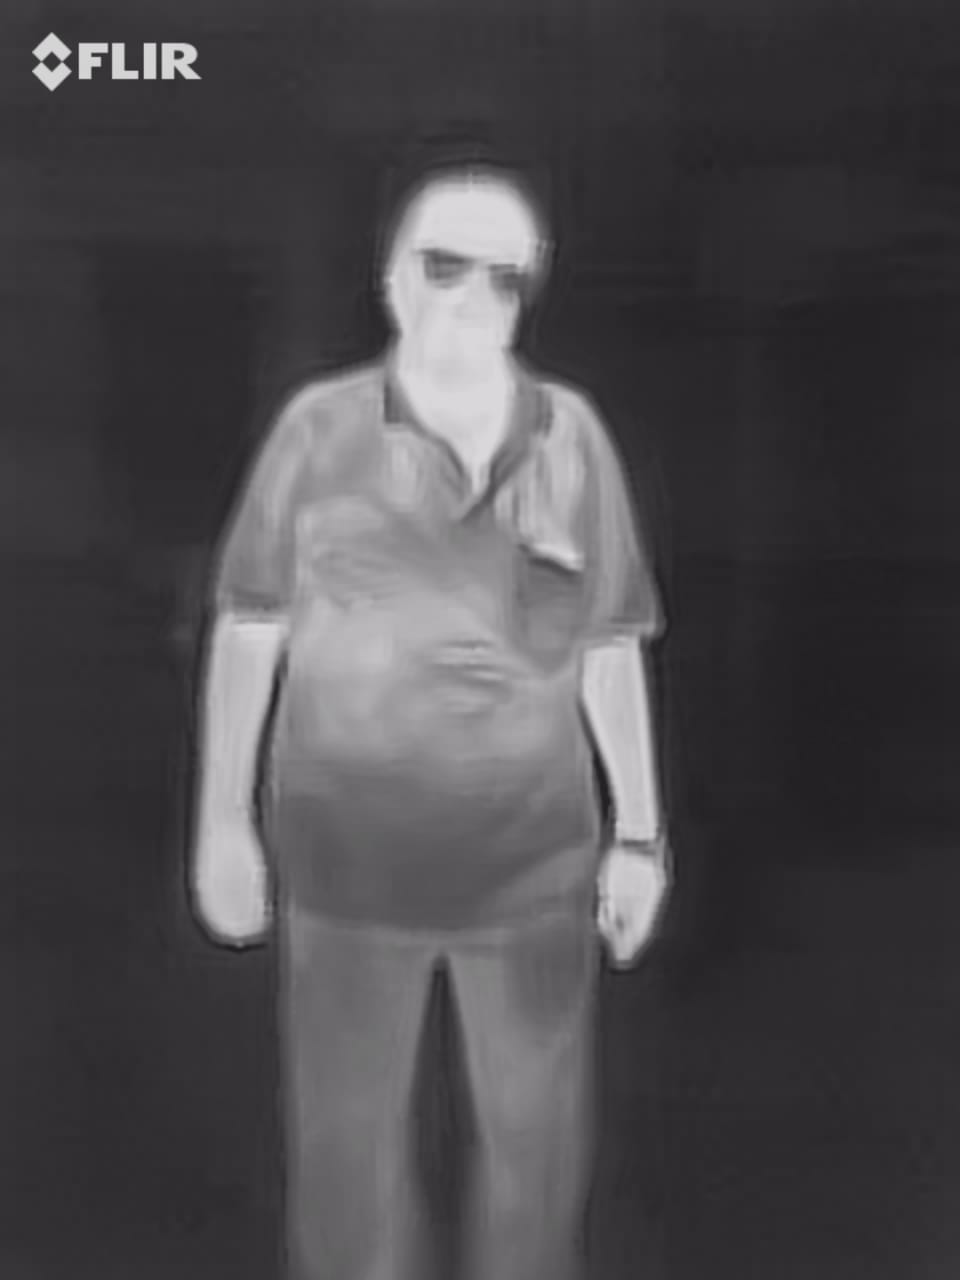head: (375, 161, 565, 380)
